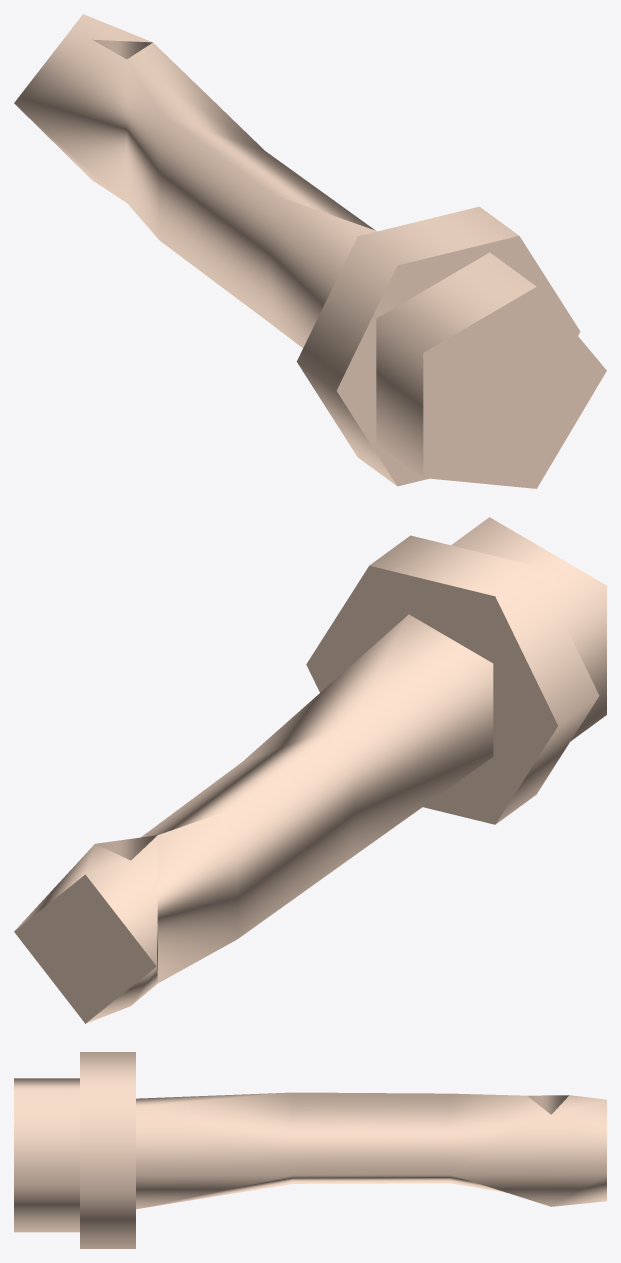
File: Pont bascule des Heures - axe.obj
The picture shows the model from 3 angles, top to bottom: view 1: azimuth 30°, elevation 25°; view 2: azimuth 150°, elevation 25°; view 3: azimuth 270°, elevation 25°; orthographic projection. The views are drawn at different scales.
Parts seen in each view (by area): view 1: Face_3, Face_1, Face_5, Face_7, Face_6; view 2: Face_3, Face_4, Face_5, Face_2, Face_7, Face_8; view 3: Face_3, Face_5, Face_7, Face_8.
Part boxes in pixels (x1,y1,x2,y2): Face_3: (14,14,377,347); Face_1: (423,287,606,488); Face_5: (296,206,518,485); Face_7: (376,252,536,477); Face_6: (336,236,580,486); Face_3: (15,614,493,1023); Face_4: (306,565,557,824); Face_5: (369,535,599,823); Face_2: (14,874,156,1023); Face_7: (451,517,606,741); Face_8: (95,835,157,860); Face_3: (136,1092,606,1209); Face_5: (80,1052,135,1248); Face_7: (14,1078,79,1232); Face_8: (527,1095,569,1114).
Bounding box in the file's own units: 0.006 × 0.0052 × 0.018.
